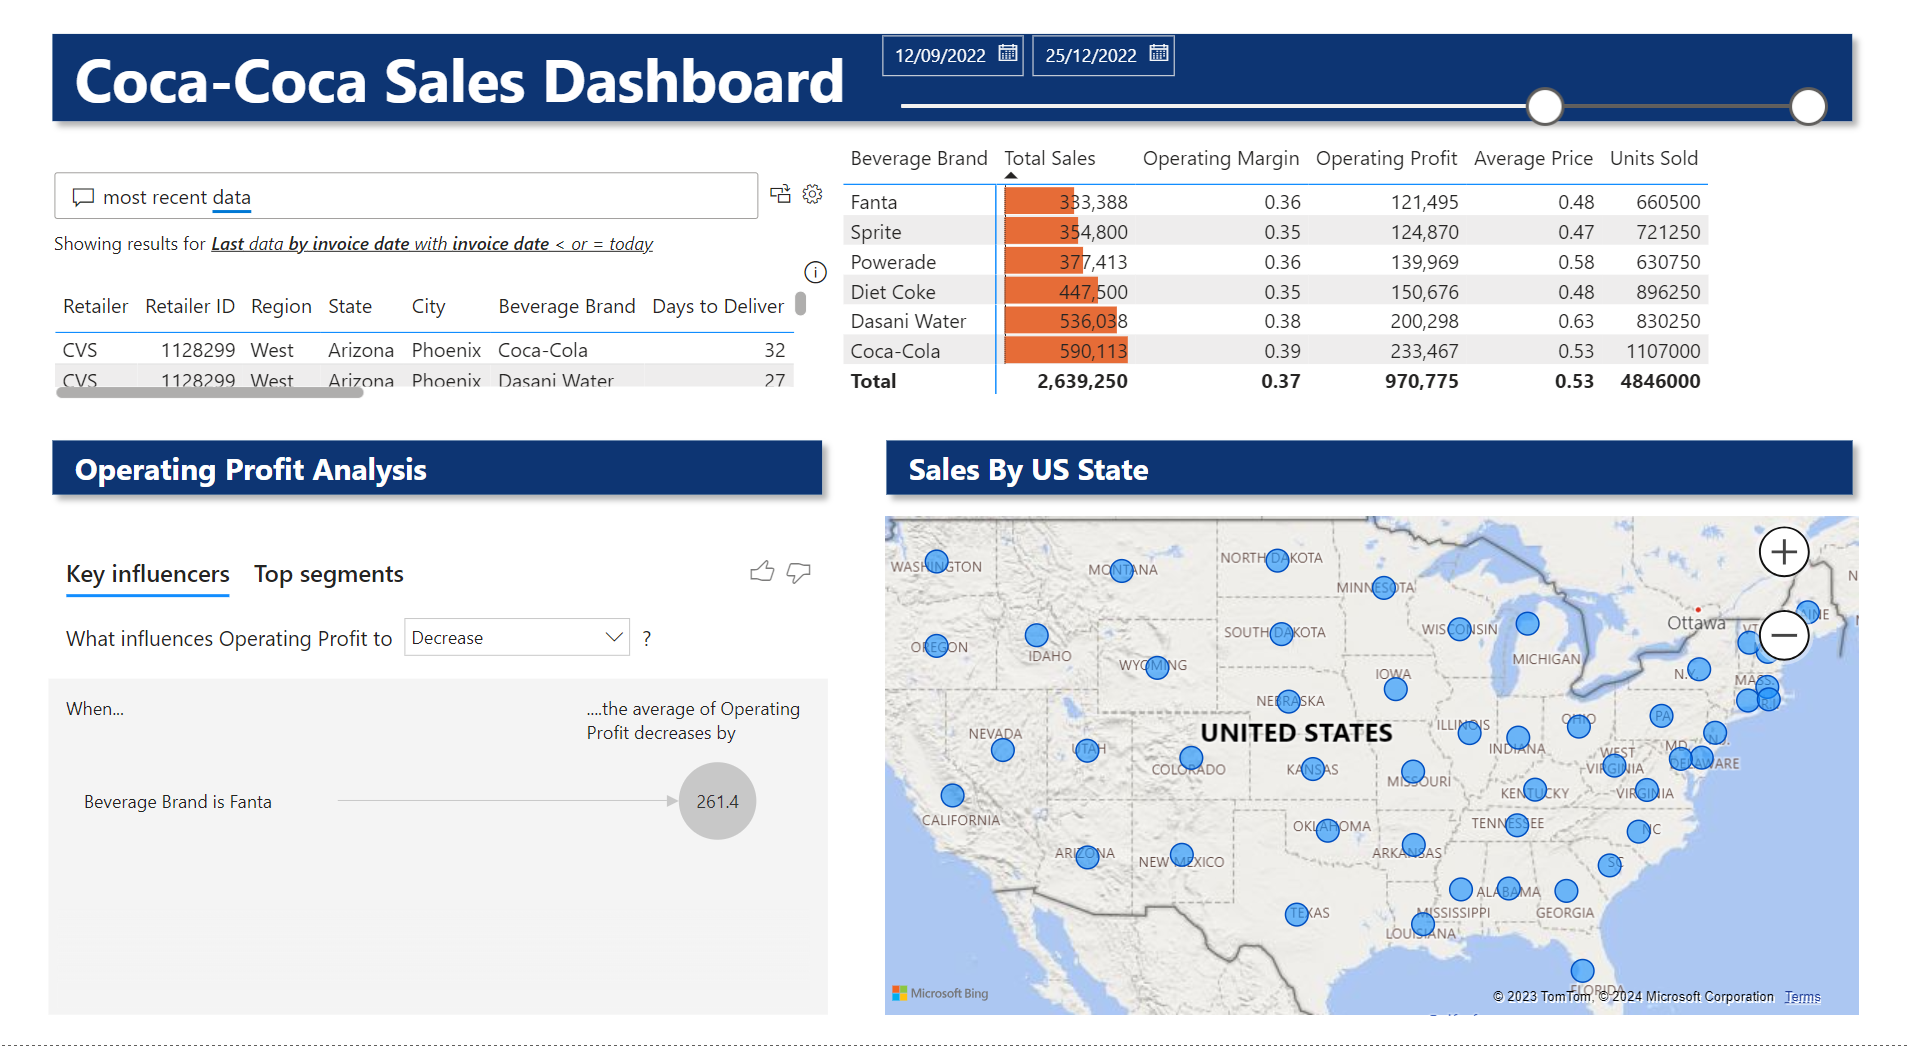

Layout of this report page (visuals, bound fields, positions):
{"tool":"powerbi","page":{"name":"Page 1","canvas":[1280,720],"ordinal":0},"visuals":[{"type":"shape","box":[26.7,33.6,1224.8,76.5],"z":0},{"type":"shape","box":[26.2,305.8,534.1,54.3],"z":1000},{"type":"shape","box":[585.4,305.8,665.8,54.3],"z":2000},{"type":"qnaVisual","box":[27.2,109.6,533.1,196.1],"z":3000},{"type":"keyDriversVisual","fields":{"Target":["Data.Operating Profit"],"ExplainBy":["Data.Beverage Brand"]},"box":[27.2,379.2,533.1,325.9],"z":4000},{"type":"map","fields":{"Category":["Data.State"]},"box":[588.4,360.1,662.8,345],"z":5000},{"type":"pivotTable","fields":{"Rows":["Data.Beverage Brand"],"Values":["Sum(Data.Total Sales)","Avg(Data.Operating Margin)","Sum(Data.Operating Profit)","Avg(Data.Price per Unit)","Sum(Data.Units Sold)"]},"box":[560,110,692,196],"z":6000},{"type":"slicer","fields":{"Values":["Data.Invoice Date"]},"box":[578.3,33.2,655.8,92.5],"z":7000}]}

Visuals, with their boxes in screenshot pixels (x1, y1, x2, y2), scaled from the page's 1280x720 canvas onto the 1909x1046 screenshot:
shape: pyautogui.locateOnScreen(40, 49, 1866, 160)
shape: pyautogui.locateOnScreen(39, 444, 836, 523)
shape: pyautogui.locateOnScreen(873, 444, 1866, 523)
qnaVisual: pyautogui.locateOnScreen(41, 159, 836, 444)
keyDriversVisual - Data.Operating Profit x Data.Beverage Brand: pyautogui.locateOnScreen(41, 551, 836, 1024)
map - Data.State: pyautogui.locateOnScreen(878, 523, 1866, 1024)
pivotTable - Data.Beverage Brand x Sum(Data.Total Sales): pyautogui.locateOnScreen(835, 160, 1867, 445)
slicer - Data.Invoice Date: pyautogui.locateOnScreen(862, 48, 1841, 183)
